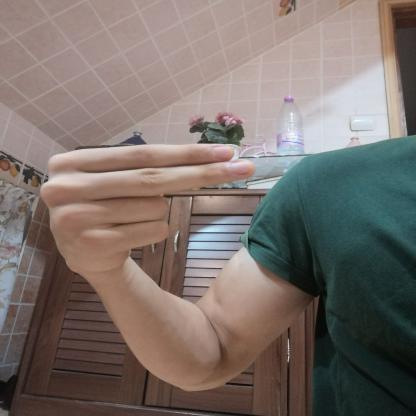AYN: (21, 131, 273, 289)
